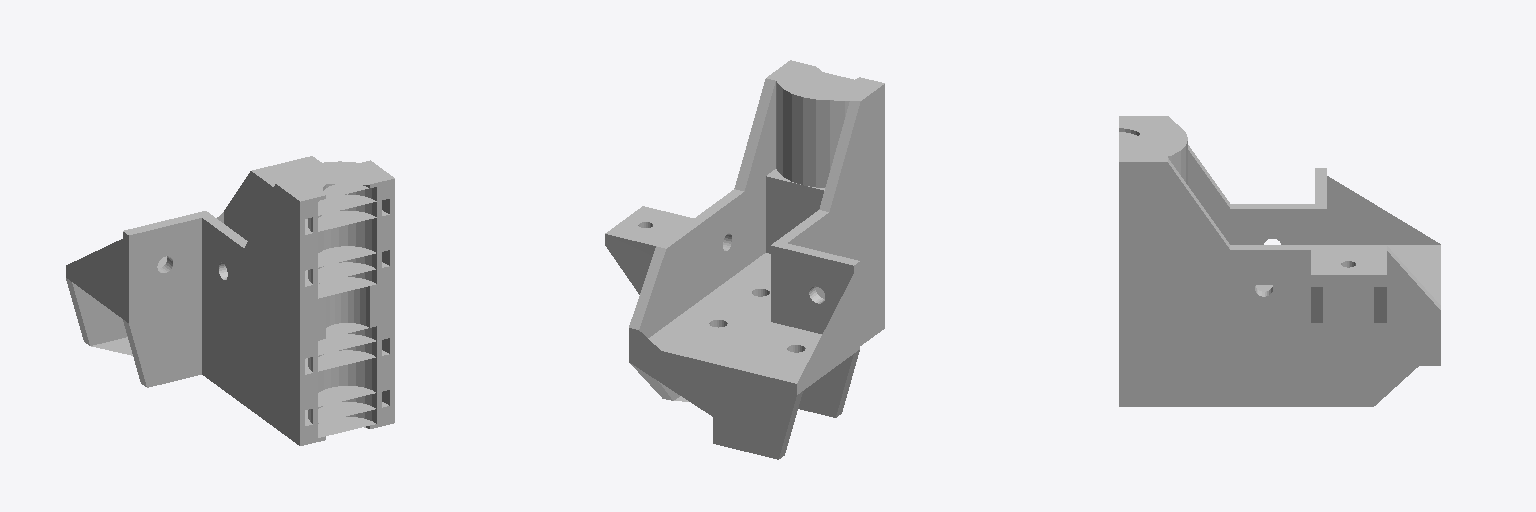
File: Z Axis.obj
3 renders of one model, left to right at view 1: azimuth 30°, elevation 25°; view 2: azimuth 150°, elevation 25°; view 3: azimuth 270°, elevation 25°, orthographic.
Parts seen in each view (by area): view 1: Mesh1 Model; view 2: Mesh1 Model; view 3: Mesh1 Model.
Boxes of the visible parts, box(x1,y1,x2,y2) form: Mesh1 Model: box(66, 156, 394, 445); Mesh1 Model: box(605, 60, 884, 459); Mesh1 Model: box(1119, 116, 1440, 406).
Size of the model in its own units: 60 by 64 by 76.5.